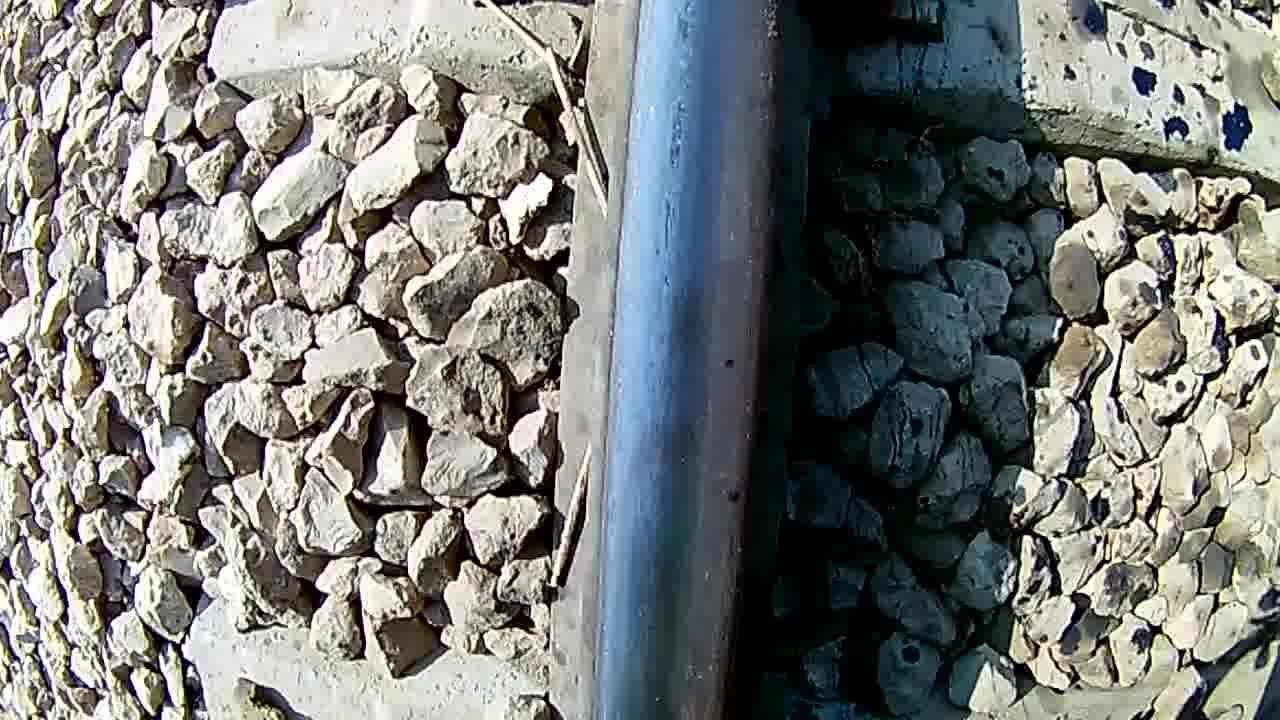crack: (620, 0, 784, 720)
